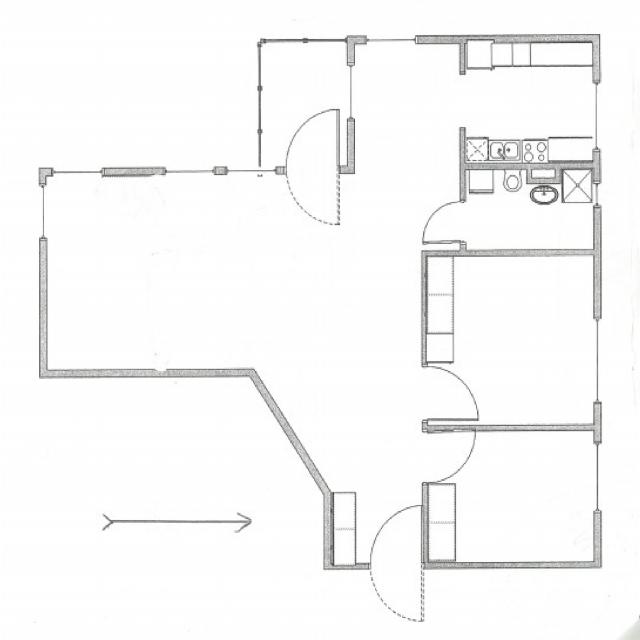door: (287, 110, 339, 176), (371, 508, 419, 569), (422, 367, 478, 419), (422, 433, 474, 482), (423, 201, 465, 240)
